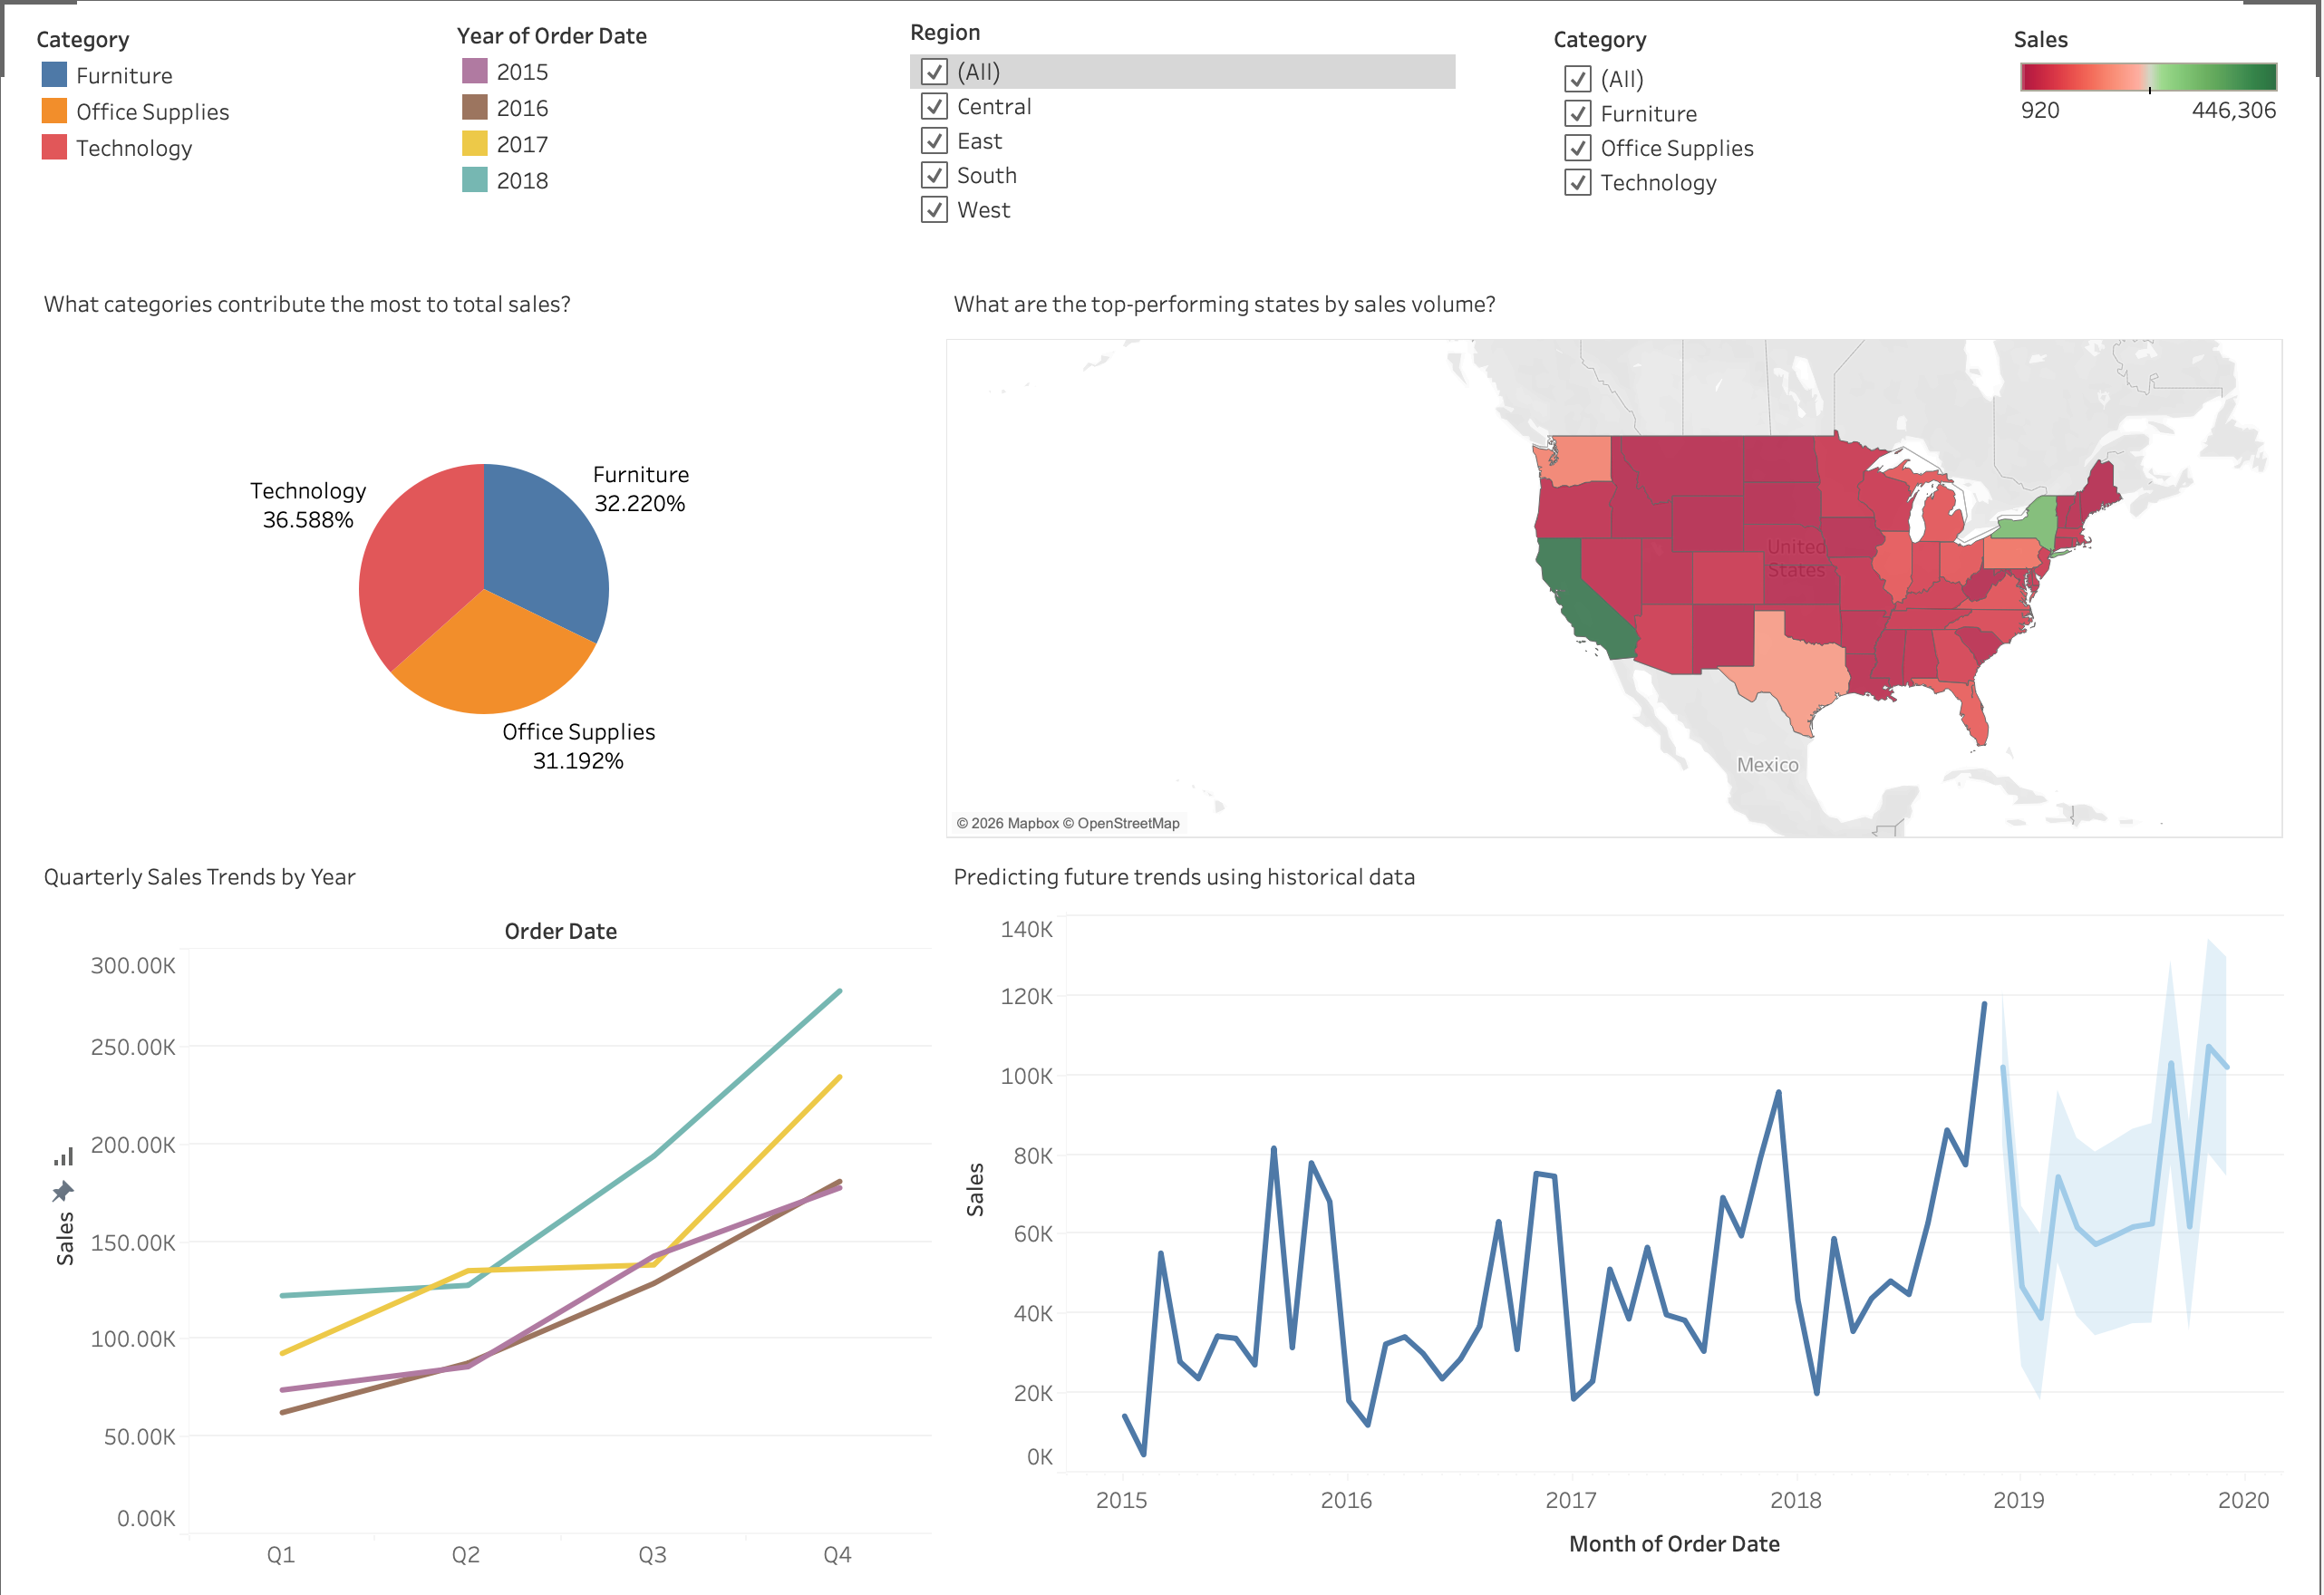

Layout of this report page (visuals, bound fields, positions):
{"tool":"tableau","page":{"name":"Sales Performance Dashboard","canvas":[650,860],"ordinal":0},"visuals":[{"type":"filter","title":"Quarterly Sales Trends by Year","param":"[federated.1twsfnb1p691f11grnwrg1tvicis].[none:Region:nk]","box":[253,4.4,157,138.2]},{"type":"legend","title":"Quarterly Sales Trends by Year","param":"[federated.1twsfnb1p691f11grnwrg1tvicis].[yr:Order Date:ok]","box":[126,6.6,111,138.2]},{"type":"legend","title":"What categories contribute the most to total sales?","param":"[federated.1twsfnb1p691f11grnwrg1tvicis].[none:Category:nk]","box":[8,8.4,157,138.7]},{"type":"filter","title":"What are the top-performing states by sales volume?","param":"[federated.1twsfnb1p691f11grnwrg1tvicis].[none:Category:nk]","box":[433,8.4,129,138.7]},{"type":"legend","title":"What are the top-performing states by sales volume?","param":"[federated.1twsfnb1p691f11grnwrg1tvicis].[sum:Sales:qk]","box":[562,8.4,80,138.7]},{"type":"worksheet","title":"What categories contribute the most to total sales?","mark":"Pie","box":[8,147.2,347,309.2]},{"type":"worksheet","title":"What are the top-performing states by sales volume?","mark":"Automatic","box":[355,147.2,287,394.1]},{"type":"worksheet","title":"Quarterly Sales Trends by Year","mark":"Line","rows":["Sales"],"cols":["Order Date"],"box":[8,456.4,347,395.2]},{"type":"worksheet","title":"Predicting future trends using historical data","mark":"Automatic","rows":["Sales"],"cols":["Order Date"],"box":[355,541.2,287,310.4]}]}

Visuals, with their boxes on the page's 650x860 design canvas (x1, y1, x2, y2). These are canvas units, not pixel positions in the 2324x1595 screenshot, which may show the page scaled, cropped or inside an application window:
"Quarterly Sales Trends by Year" filter: (left=253, top=4, right=410, bottom=143)
"Quarterly Sales Trends by Year" legend: (left=126, top=7, right=237, bottom=145)
"What categories contribute the most to total sales?" legend: (left=8, top=8, right=165, bottom=147)
"What are the top-performing states by sales volume?" filter: (left=433, top=8, right=562, bottom=147)
"What are the top-performing states by sales volume?" legend: (left=562, top=8, right=642, bottom=147)
"What categories contribute the most to total sales?" worksheet (Pie marks): (left=8, top=147, right=355, bottom=456)
"What are the top-performing states by sales volume?" worksheet: (left=355, top=147, right=642, bottom=541)
"Quarterly Sales Trends by Year" worksheet (Line marks): (left=8, top=456, right=355, bottom=852)
"Predicting future trends using historical data" worksheet: (left=355, top=541, right=642, bottom=852)
